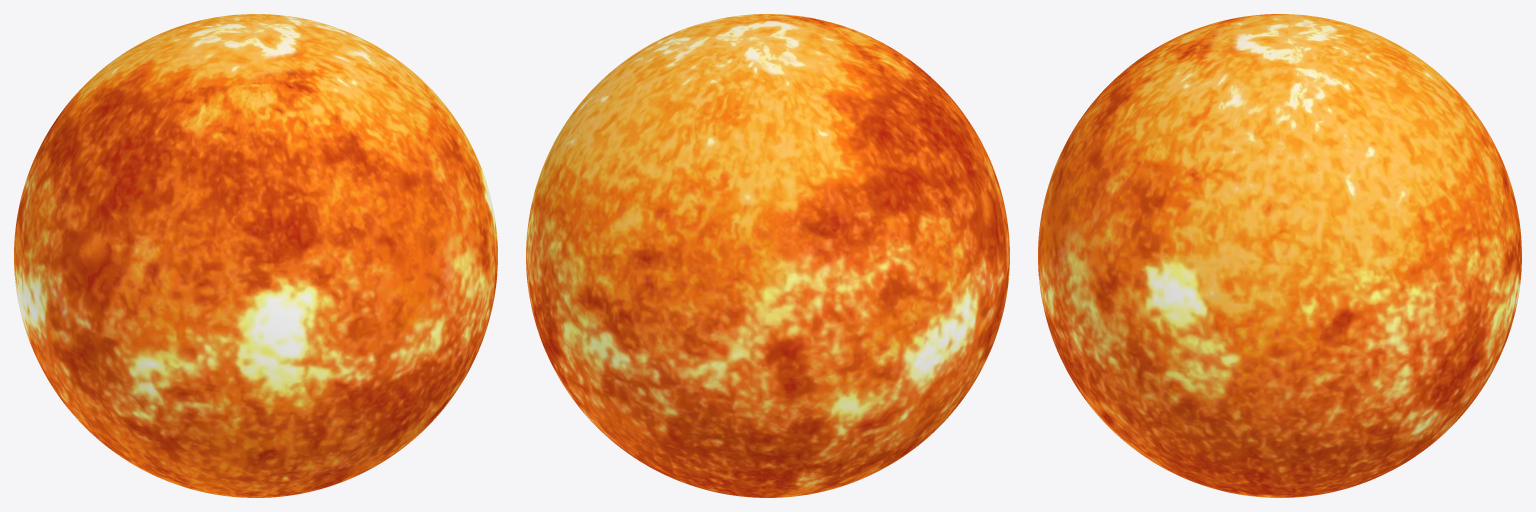
Rendered from sun_02.glb.
The picture shows the model from 3 angles, left to right: view 1: azimuth 30°, elevation 25°; view 2: azimuth 150°, elevation 25°; view 3: azimuth 270°, elevation 25°; orthographic projection.
Visible parts, largest first — view 1: Object_2; view 2: Object_2; view 3: Object_2.
Boxes of the visible parts, x1,y1,x2,y2 form: Object_2: (14,14,497,497); Object_2: (526,14,1009,497); Object_2: (1038,14,1521,497).
Size of the model in its own units: 2000 by 2000 by 2000.
1 material, 1 textured.
